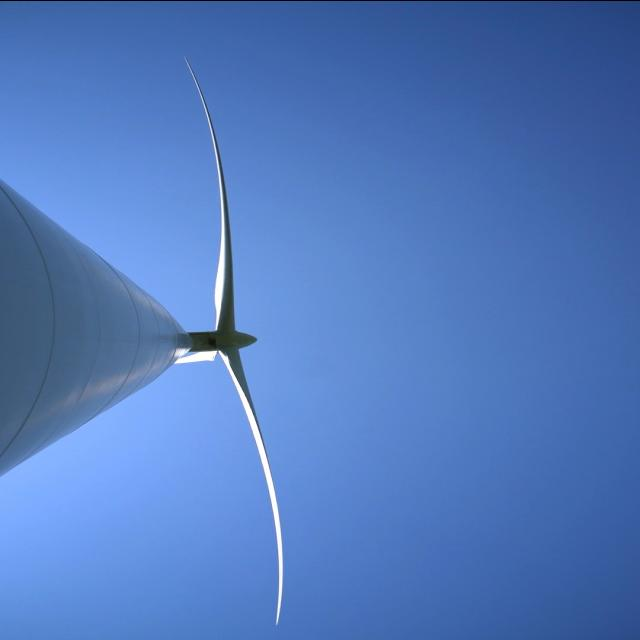blade 1: (172, 56, 272, 306)
blade 2: (180, 350, 220, 380)
blade 3: (230, 390, 316, 624)
